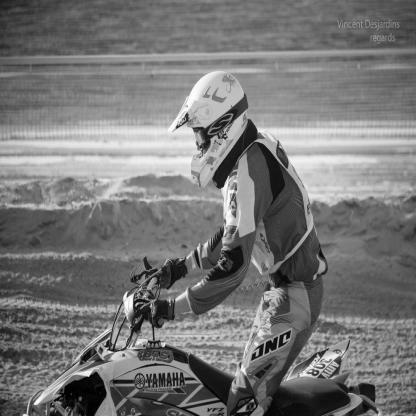moto: (11, 302, 393, 416)
